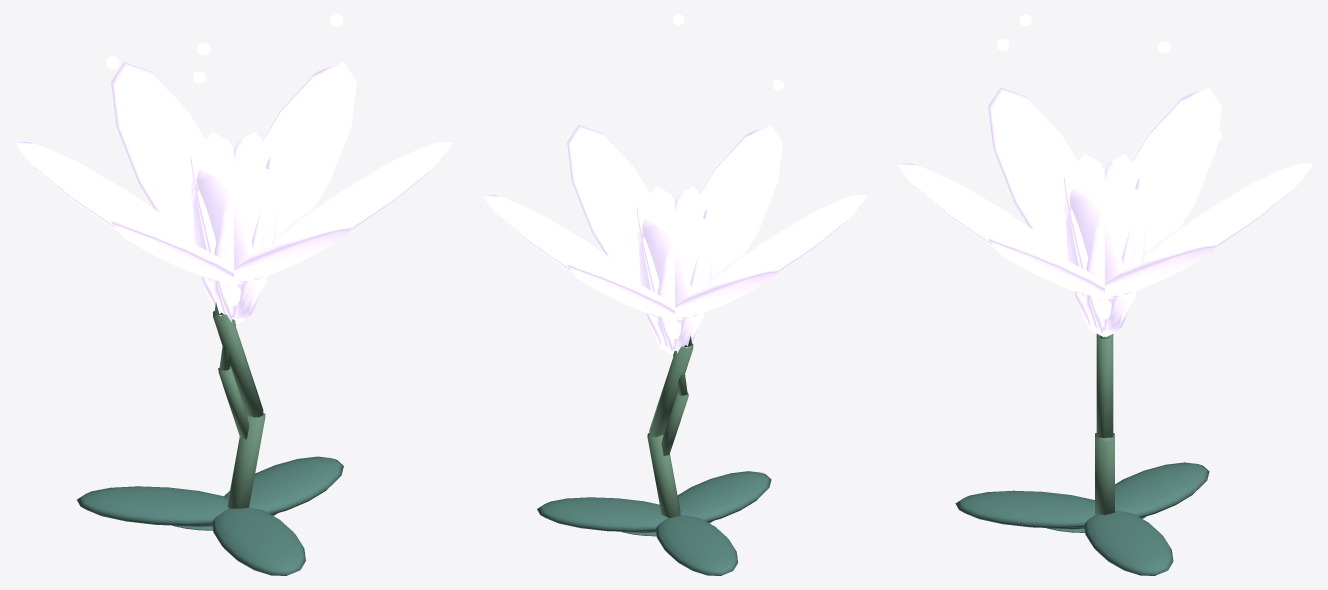
The model's file is moonpetal.glb.
3 renders of one model, left to right at view 1: azimuth 30°, elevation 25°; view 2: azimuth 150°, elevation 25°; view 3: azimuth 270°, elevation 25°, orthographic. The views are drawn at different scales.
Parts seen in each view (by area): view 1: moonpetal_s2_body, moonpetal_s1_bud, moonpetal_s1_body; view 2: moonpetal_s2_body, moonpetal_s1_bud, moonpetal_s1_body; view 3: moonpetal_s2_body, moonpetal_s1_bud.
Boxes of the visible parts, x1,y1,x2,y2 form: moonpetal_s2_body: (14, 14, 453, 575); moonpetal_s1_bud: (190, 132, 277, 324); moonpetal_s1_body: (172, 319, 277, 526); moonpetal_s2_body: (482, 14, 867, 575); moonpetal_s1_bud: (636, 186, 713, 354); moonpetal_s1_body: (622, 350, 713, 532); moonpetal_s2_body: (896, 14, 1313, 575); moonpetal_s1_bud: (1063, 154, 1146, 336).
Bounding box in the file's own units: 1.06 × 1.67 × 1.22.
